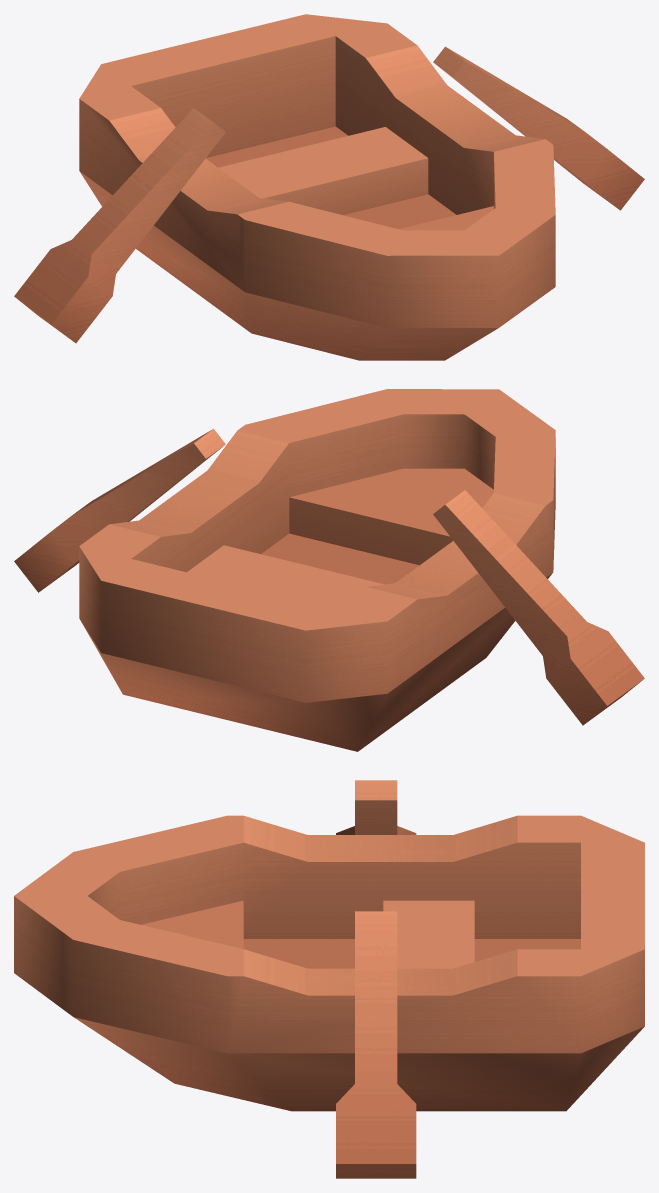
Rendered from boat-row-small.glb.
The picture shows the model from 3 angles, top to bottom: view 1: azimuth 30°, elevation 25°; view 2: azimuth 150°, elevation 25°; view 3: azimuth 270°, elevation 25°; orthographic projection. The views are drawn at different scales.
Parts seen in each view (by area): view 1: boat-row-small, paddles; view 2: boat-row-small, paddles; view 3: boat-row-small, paddles.
Part boxes in pixels (left/top/right/bottom): boat-row-small: left=79, top=14, right=555, bottom=360; paddles: left=14, top=46, right=644, bottom=343; boat-row-small: left=79, top=389, right=555, bottom=751; paddles: left=14, top=428, right=644, bottom=725; boat-row-small: left=14, top=815, right=644, bottom=1111; paddles: left=336, top=780, right=416, bottom=1178.
Size of the model in its own units: 2.75 by 0.8477 by 2.37.
1 material, 1 textured.
